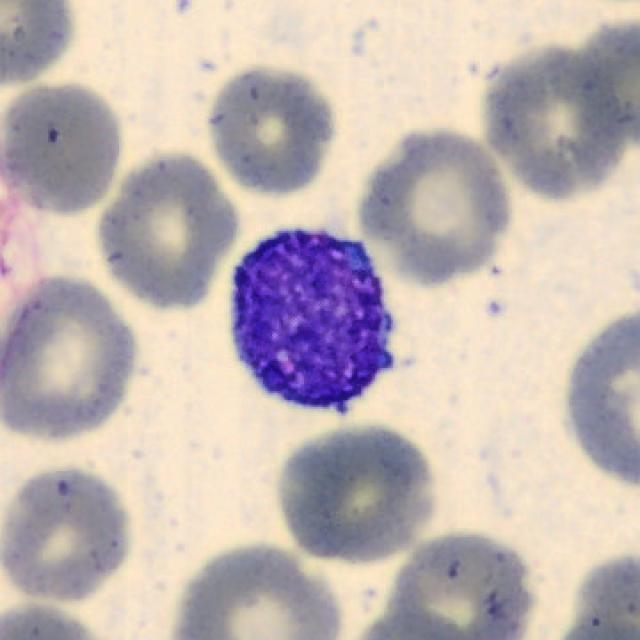Linfocito: (231, 231, 395, 414)
